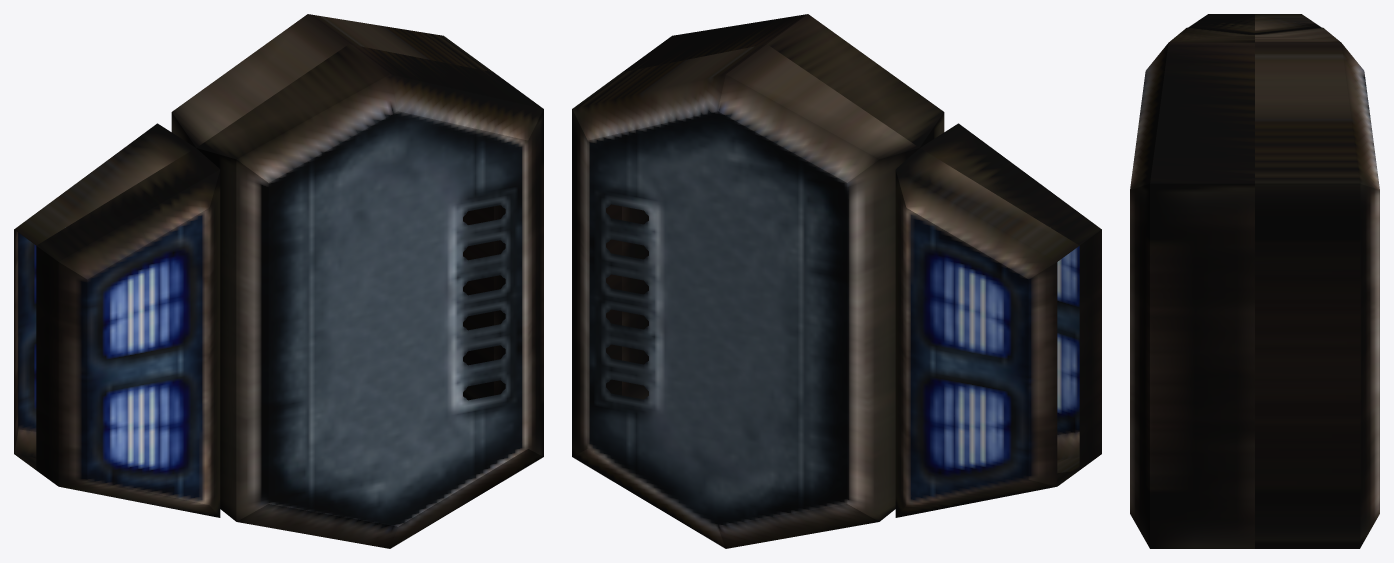
The model's file is datan_common_061aac59.obj.
3 views of the same model, side by side, from view 1: azimuth 30°, elevation 25°; view 2: azimuth 150°, elevation 25°; view 3: azimuth 270°, elevation 25° (orthographic). The views are drawn at different scales.
Parts seen in each view (by area): view 1: datan_common_061aac59_mesh00, datan_common_061aac59_mesh02, datan_common_061aac59_mesh01; view 2: datan_common_061aac59_mesh01, datan_common_061aac59_mesh02, datan_common_061aac59_mesh00; view 3: datan_common_061aac59_mesh00, datan_common_061aac59_mesh01, datan_common_061aac59_mesh02.
Part boxes in pixels (bbox=[...]): datan_common_061aac59_mesh00: bbox=[196, 44, 543, 548]; datan_common_061aac59_mesh02: bbox=[14, 123, 220, 517]; datan_common_061aac59_mesh01: bbox=[171, 14, 493, 400]; datan_common_061aac59_mesh01: bbox=[572, 44, 919, 548]; datan_common_061aac59_mesh02: bbox=[895, 123, 1101, 517]; datan_common_061aac59_mesh00: bbox=[622, 14, 944, 399]; datan_common_061aac59_mesh00: bbox=[1130, 27, 1254, 548]; datan_common_061aac59_mesh01: bbox=[1255, 27, 1379, 548]; datan_common_061aac59_mesh02: bbox=[1188, 14, 1321, 34].
Size of the model in its own units: 12.07 by 11.96 by 5.44.
1 material, 1 textured.
